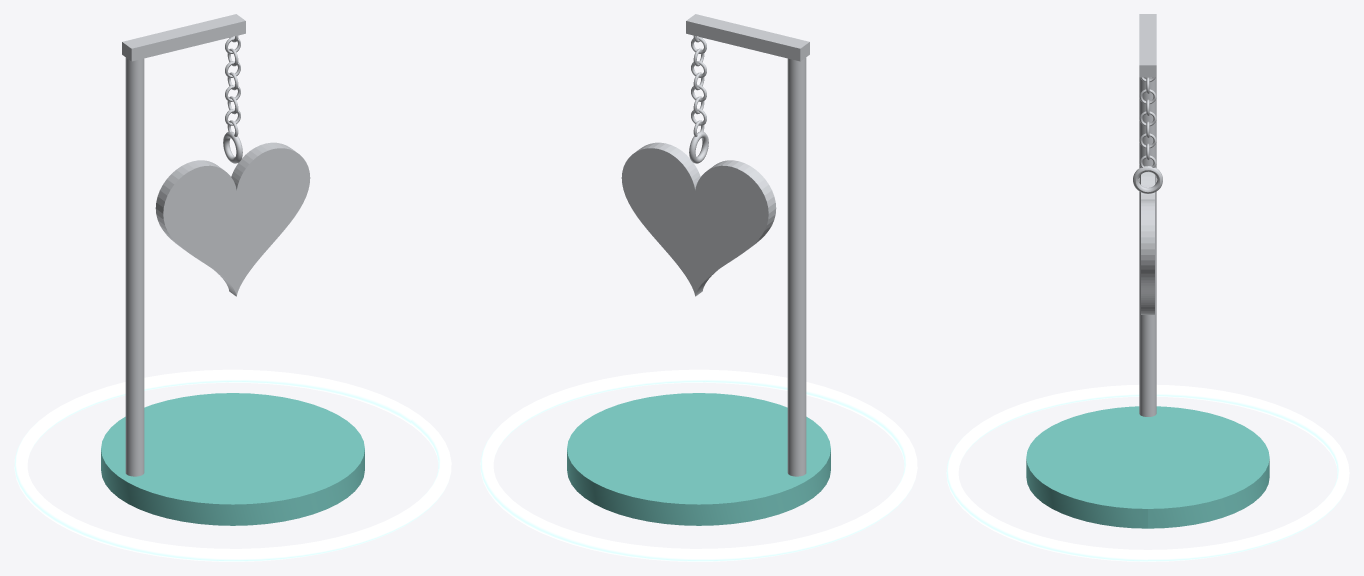
Rendered from tiffany-heart-tag.glb.
3 views of the same model, side by side, from view 1: azimuth 30°, elevation 25°; view 2: azimuth 150°, elevation 25°; view 3: azimuth 270°, elevation 25° (orthographic). The views are drawn at different scales.
Parts seen in each view (by area): view 1: Base, HeartTag, Halo, Post, Arm; view 2: Base, HeartTag, Halo, Post, Arm; view 3: Base, Halo, Post, HeartTag, Arm.
Part boxes in pixels (left/top/right/bottom): Base: left=101, top=393, right=364, bottom=525; HeartTag: left=155, top=142, right=310, bottom=296; Halo: left=14, top=369, right=451, bottom=561; Post: left=125, top=57, right=144, bottom=476; Arm: left=122, top=14, right=245, bottom=61; Base: left=567, top=393, right=830, bottom=525; HeartTag: left=621, top=142, right=776, bottom=296; Halo: left=480, top=369, right=917, bottom=561; Post: left=787, top=57, right=806, bottom=476; Arm: left=686, top=14, right=809, bottom=61; Base: left=1026, top=406, right=1269, bottom=528; Halo: left=946, top=384, right=1349, bottom=561; Post: left=1139, top=77, right=1156, bottom=416; HeartTag: left=1141, top=172, right=1154, bottom=314; Arm: left=1139, top=14, right=1156, bottom=77.
Size of the model in its own units: 0.0928 by 0.1059 by 0.0928.
